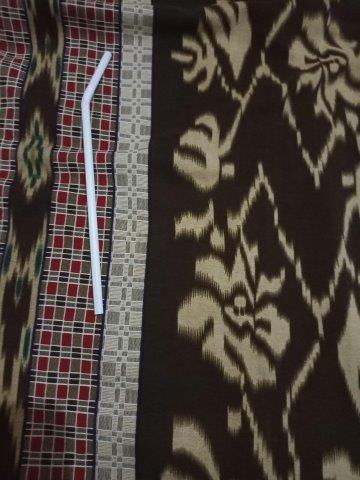sedotan: (81, 51, 112, 314)
